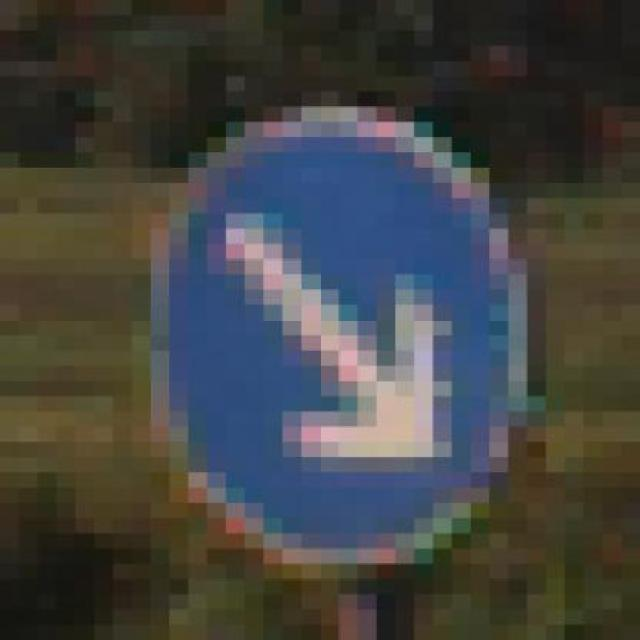Keep-Right: (57, 76, 546, 595)
